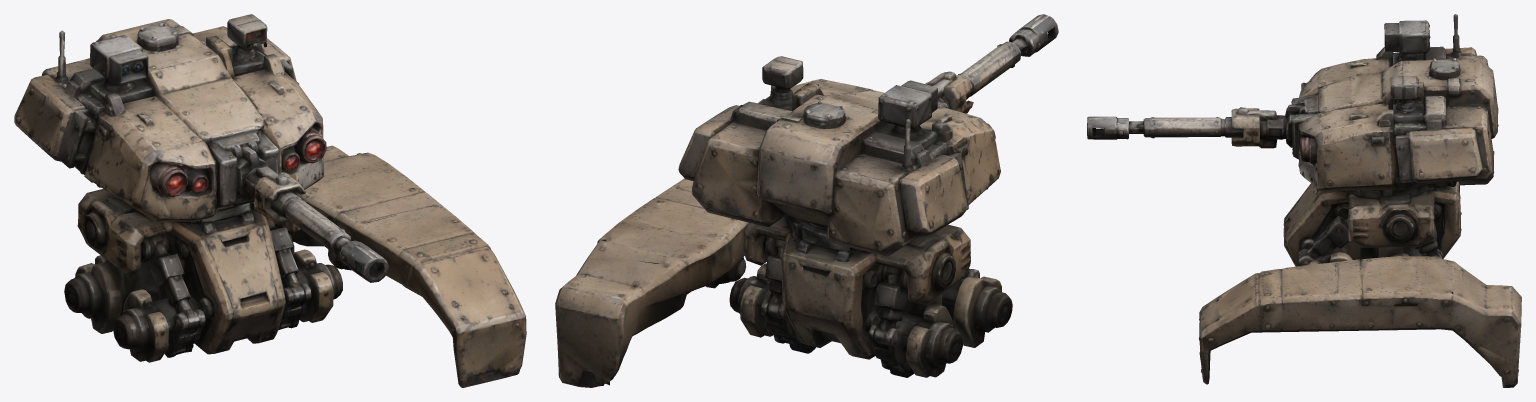
File: military+robot+3d+mol_closed.fbx
3 views of the same model, side by side, from view 1: azimuth 30°, elevation 25°; view 2: azimuth 150°, elevation 25°; view 3: azimuth 270°, elevation 25° (orthographic). The views are drawn at different scales.
Parts seen in each view (by area): view 1: tripo_node_eef86e3e-2a9e-4b8c-b61f-95e3972002fa, tripo_node_eef86e3e-2a9e-4b8c-b61f-95e3972002fa.002, tripo_node_eef86e3e-2a9e-4b8c-b61f-95e3972002fa.001, tripo_node_eef86e3e-2a9e-4b8c-b61f-95e3972002fa.003; view 2: tripo_node_eef86e3e-2a9e-4b8c-b61f-95e3972002fa, tripo_node_eef86e3e-2a9e-4b8c-b61f-95e3972002fa.002, tripo_node_eef86e3e-2a9e-4b8c-b61f-95e3972002fa.001, tripo_node_eef86e3e-2a9e-4b8c-b61f-95e3972002fa.003; view 3: tripo_node_eef86e3e-2a9e-4b8c-b61f-95e3972002fa, tripo_node_eef86e3e-2a9e-4b8c-b61f-95e3972002fa.001, tripo_node_eef86e3e-2a9e-4b8c-b61f-95e3972002fa.002, tripo_node_eef86e3e-2a9e-4b8c-b61f-95e3972002fa.003.
Boxes of the visible parts, <box> form: tripo_node_eef86e3e-2a9e-4b8c-b61f-95e3972002fa: <box>14,14,326,221</box>; tripo_node_eef86e3e-2a9e-4b8c-b61f-95e3972002fa.002: <box>64,189,342,362</box>; tripo_node_eef86e3e-2a9e-4b8c-b61f-95e3972002fa.001: <box>290,145,526,387</box>; tripo_node_eef86e3e-2a9e-4b8c-b61f-95e3972002fa.003: <box>208,130,388,282</box>; tripo_node_eef86e3e-2a9e-4b8c-b61f-95e3972002fa: <box>678,56,1000,256</box>; tripo_node_eef86e3e-2a9e-4b8c-b61f-95e3972002fa.002: <box>729,215,1012,377</box>; tripo_node_eef86e3e-2a9e-4b8c-b61f-95e3972002fa.001: <box>555,178,748,387</box>; tripo_node_eef86e3e-2a9e-4b8c-b61f-95e3972002fa.003: <box>925,14,1058,113</box>; tripo_node_eef86e3e-2a9e-4b8c-b61f-95e3972002fa: <box>1298,14,1498,190</box>; tripo_node_eef86e3e-2a9e-4b8c-b61f-95e3972002fa.001: <box>1199,256,1521,387</box>; tripo_node_eef86e3e-2a9e-4b8c-b61f-95e3972002fa.002: <box>1283,181,1461,266</box>; tripo_node_eef86e3e-2a9e-4b8c-b61f-95e3972002fa.003: <box>1087,94,1318,159</box>.
Bounding box in the file's own units: 70.66 × 60.45 × 94.16.
Materials: 1 (1 with a texture image).
